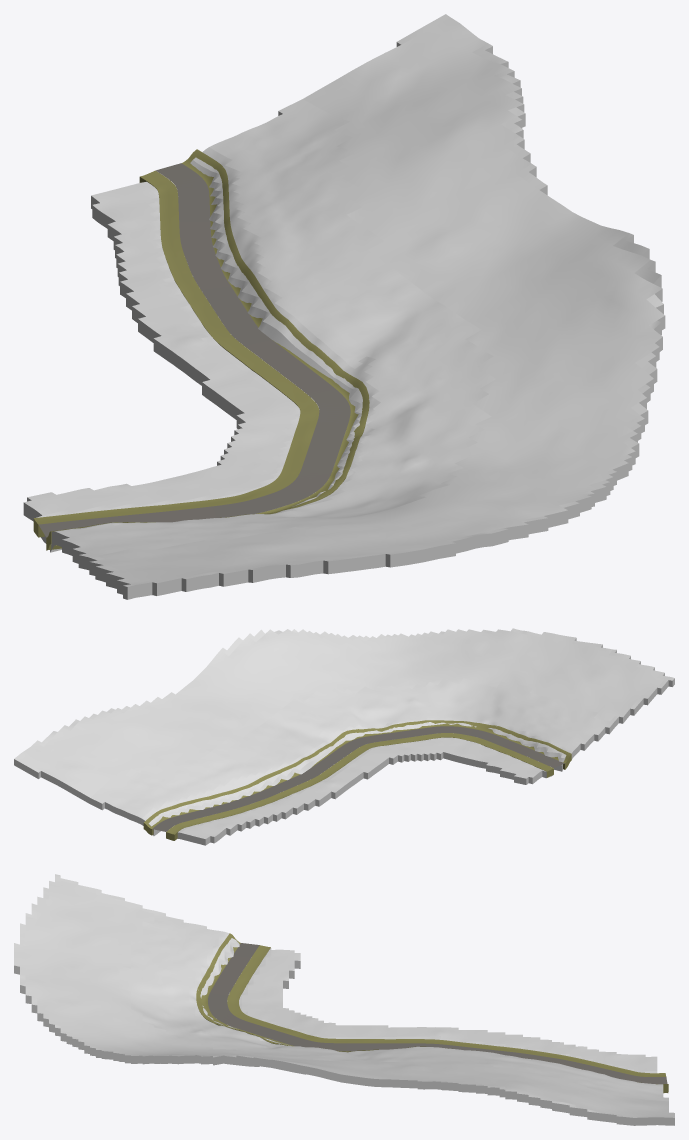
File: conz_102.glb
The picture shows the model from 3 angles, top to bottom: view 1: azimuth 30°, elevation 25°; view 2: azimuth 150°, elevation 25°; view 3: azimuth 270°, elevation 25°; orthographic projection. The views are drawn at different scales.
Visible parts, largest first — view 1: terrain102, road102, verge102L, verge102R; view 2: terrain102, road102, verge102R, verge102L; view 3: terrain102, road102, verge102L, verge102R.
Part boxes in pixels (x1,y1,x2,y2): terrain102: (23,14,665,599); road102: (38,163,350,537); verge102L: (33,170,319,537); verge102R: (46,149,369,550); terrain102: (14,628,674,845); road102: (152,726,564,831); verge102R: (143,720,571,835); verge102L: (166,733,553,840); terrain102: (14,874,674,1125); road102: (208,943,667,1084); verge102L: (227,945,666,1076); verge102R: (196,933,668,1093).
Size of the model in its own units: 200 by 32.07 by 226.
